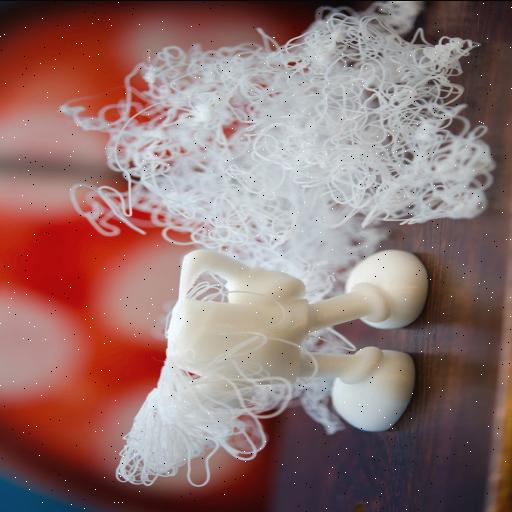spaghetti: (53, 8, 503, 272), (118, 362, 302, 496)
